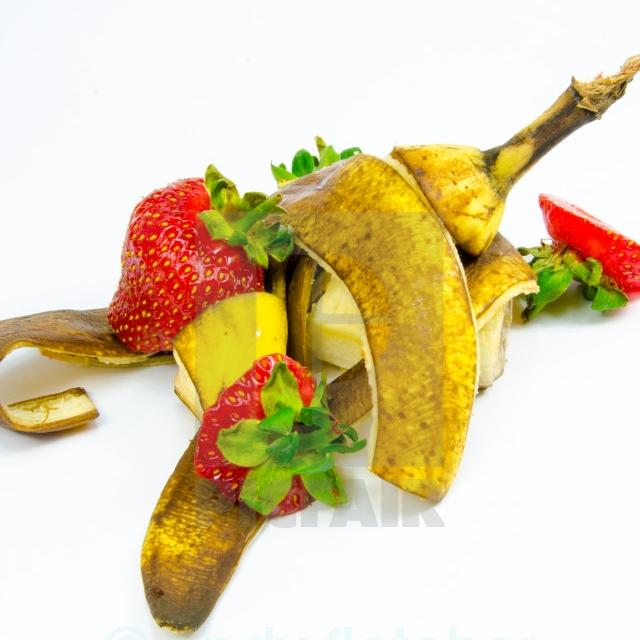food_waste: (272, 145, 483, 518), (118, 345, 337, 636), (375, 29, 640, 226), (100, 174, 284, 357), (0, 282, 167, 439), (199, 350, 356, 510), (516, 184, 640, 328), (155, 294, 307, 401)
